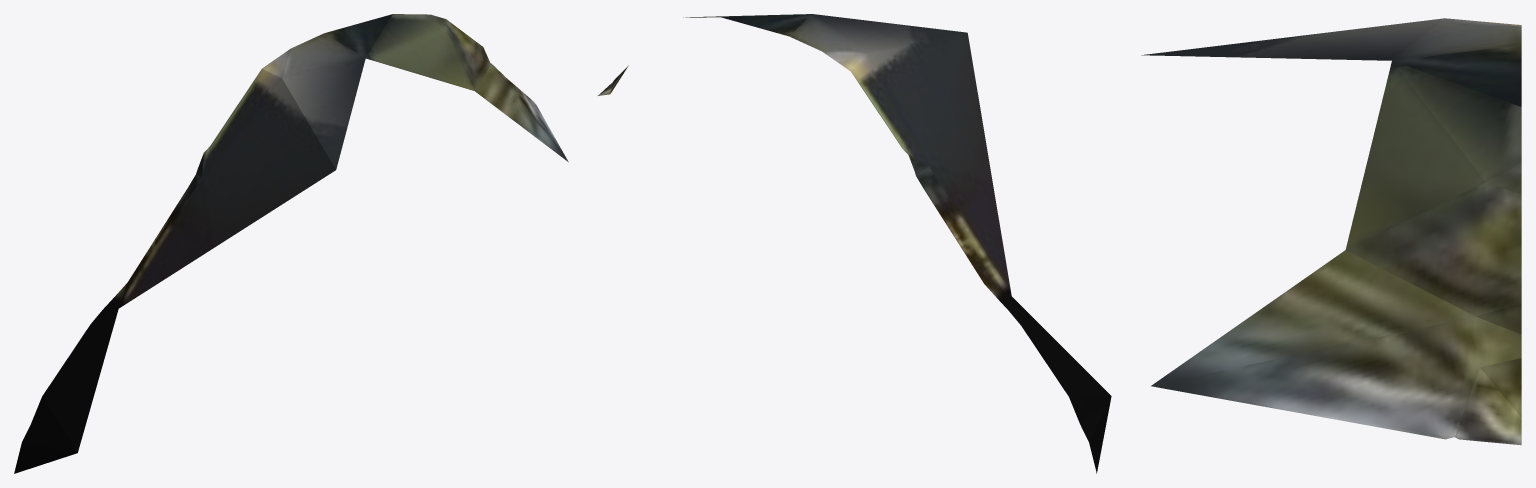
The picture shows the model from 3 angles, left to right: view 1: azimuth 30°, elevation 25°; view 2: azimuth 150°, elevation 25°; view 3: azimuth 270°, elevation 25°; orthographic projection. The views are drawn at different scales.
Bounding box in the file's own units: 4.8 × 3.35 × 1.59.
Materials: 1 (1 with a texture image).
